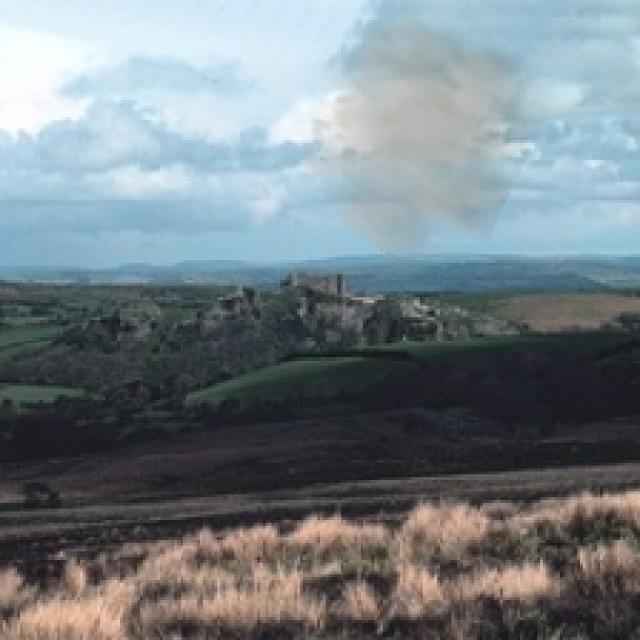smoke: (291, 3, 560, 274)
